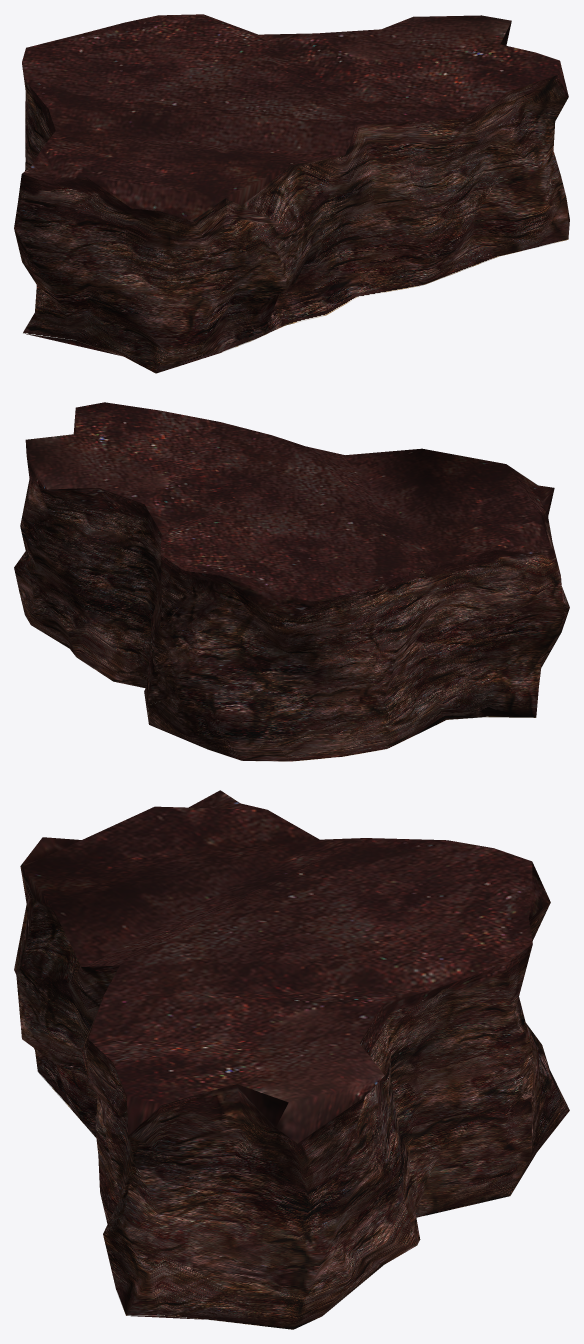
Rendered from hellmountain.FBX.
3 views of the same model, one above another, from view 1: azimuth 30°, elevation 25°; view 2: azimuth 150°, elevation 25°; view 3: azimuth 270°, elevation 25° (orthographic). The views are drawn at different scales.
Parts seen in each view (by area): view 1: hellmountain; view 2: hellmountain; view 3: hellmountain.
Part boxes in pixels (bbox=[...]): hellmountain: bbox=[14, 14, 569, 373]; hellmountain: bbox=[14, 402, 569, 761]; hellmountain: bbox=[14, 790, 569, 1329].
Size of the model in its own units: 440 by 142 by 311.
Materials: 1 (1 with a texture image).
